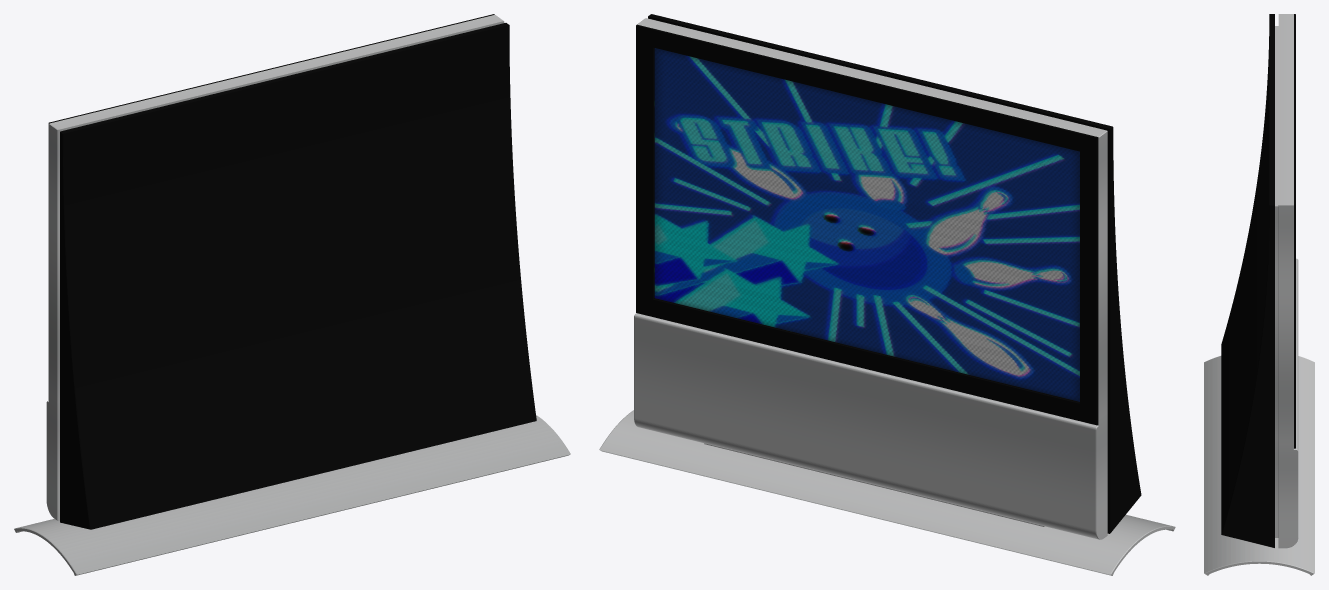
The picture shows the model from 3 angles, left to right: view 1: azimuth 30°, elevation 25°; view 2: azimuth 150°, elevation 25°; view 3: azimuth 270°, elevation 25°; orthographic projection. The views are drawn at different scales.
Parts seen in each view (by area): view 1: Empty_Mesh; view 2: Empty_Mesh; view 3: Empty_Mesh.
Boxes of the visible parts, x1,y1,x2,y2 form: Empty_Mesh: [14, 14, 570, 575]; Empty_Mesh: [599, 14, 1175, 575]; Empty_Mesh: [1204, 14, 1314, 575].
Size of the model in its own units: 375 by 298 by 83.1.
